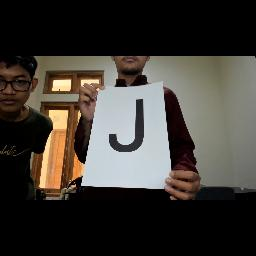j: (102, 94, 154, 158)
